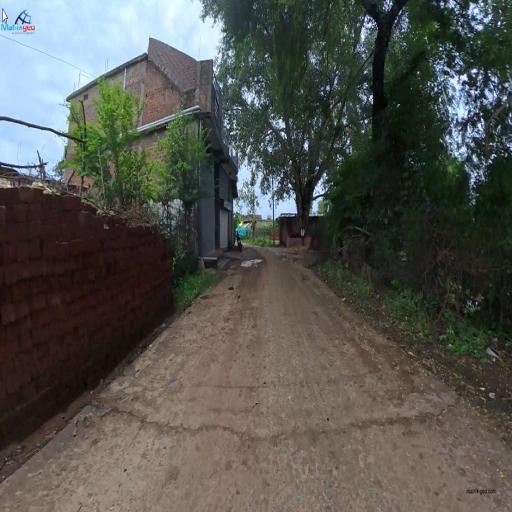longitudinal_crack: (118, 398, 463, 448)
